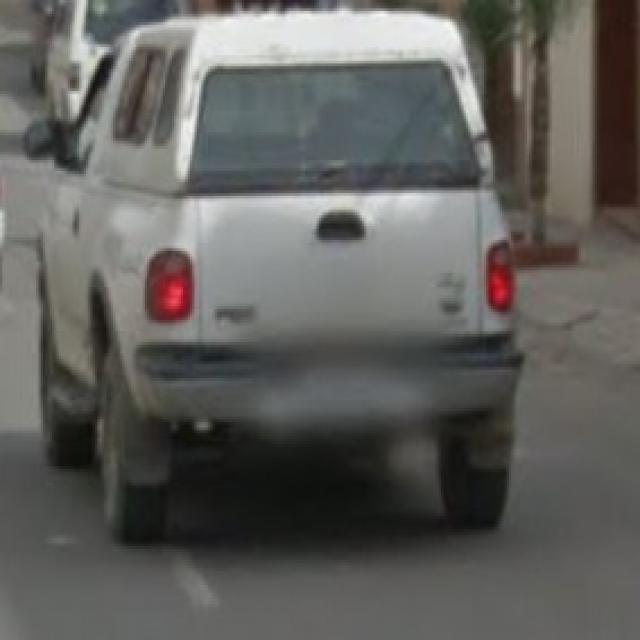cars: (39, 15, 522, 566)
